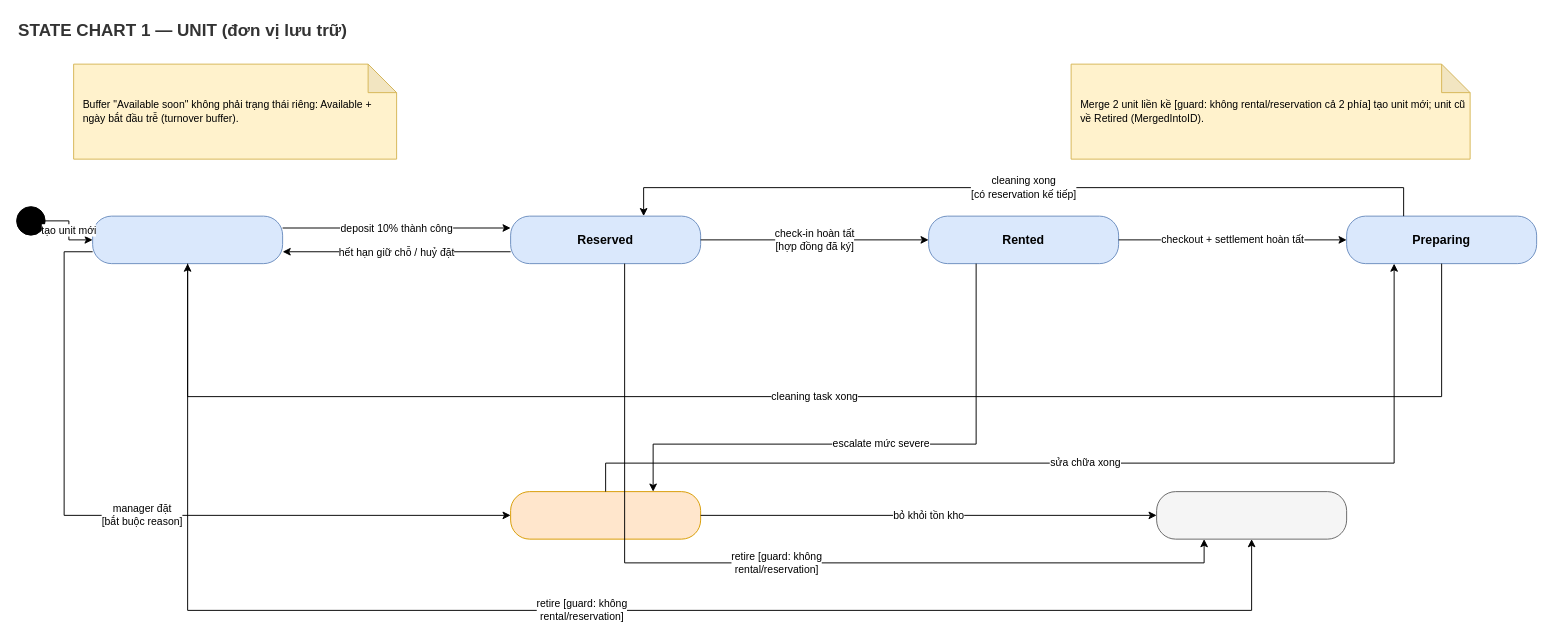
Image size: 1553x638. Some labels were removed from this diagram. Here are the shapes that lost their labels. From the top down, the centre of each, then its label:
At pixel 187 239: "Available".
At pixel 605 515: "Maintenance".
At pixel 1251 515: "Retired".
